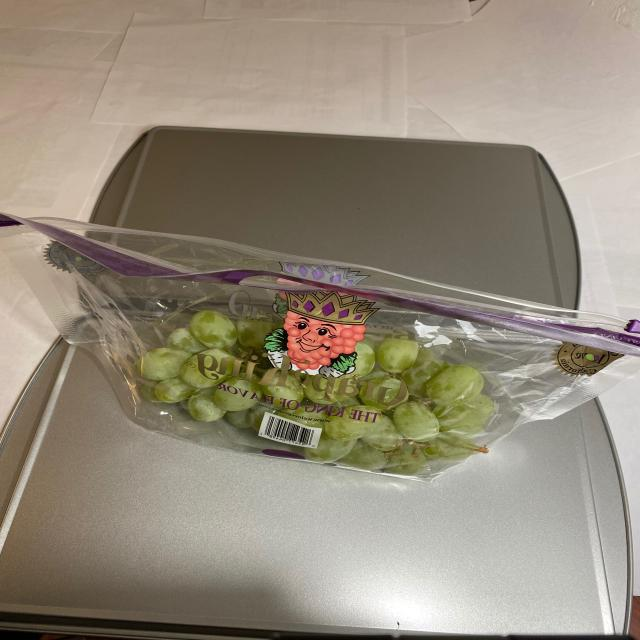grapes: (98, 302, 506, 477)
